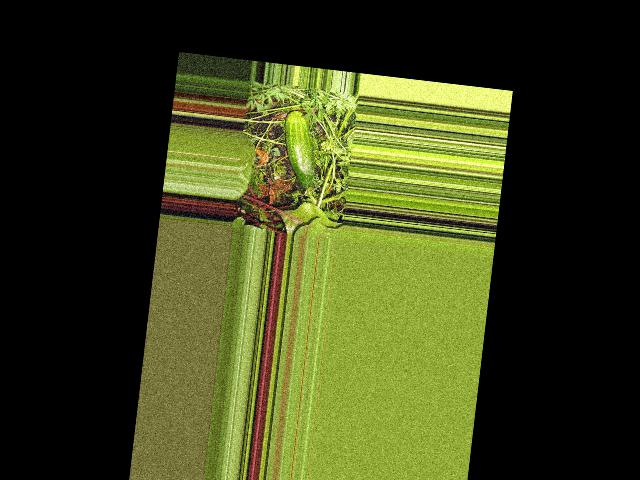cucumber: (278, 111, 324, 190)
